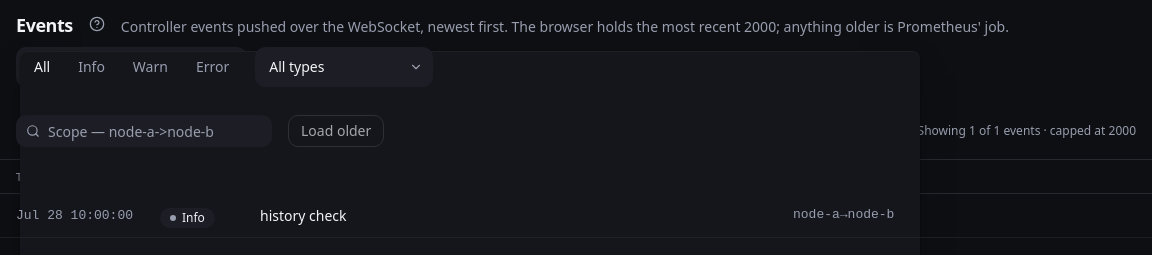
Test: LivePage scrollback (Task 5's GET /api/v1/events) › refetches history with the new type filter when it changes
This screenshot has width=1152, height=255.
Expected: the text "history check" is shown, x1=260 y1=206 x2=346 y2=224
Select "Topology changed" in the dropdown named "Type" at (344, 67), box x1=255 y1=47 x2=433 y2=87
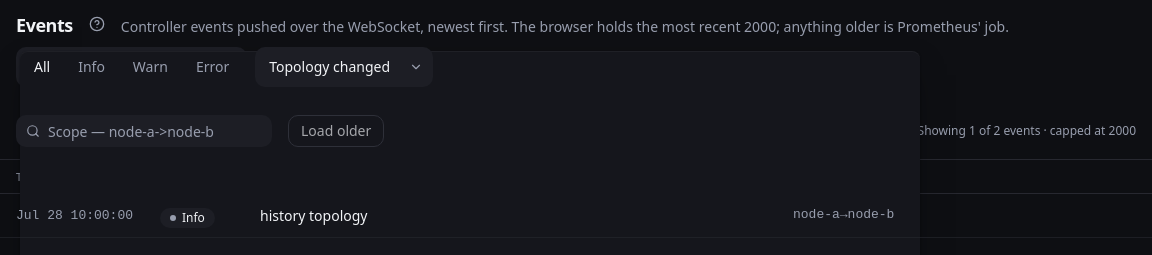
Expected: the text "history topology" is shown, x1=260 y1=206 x2=368 y2=224
